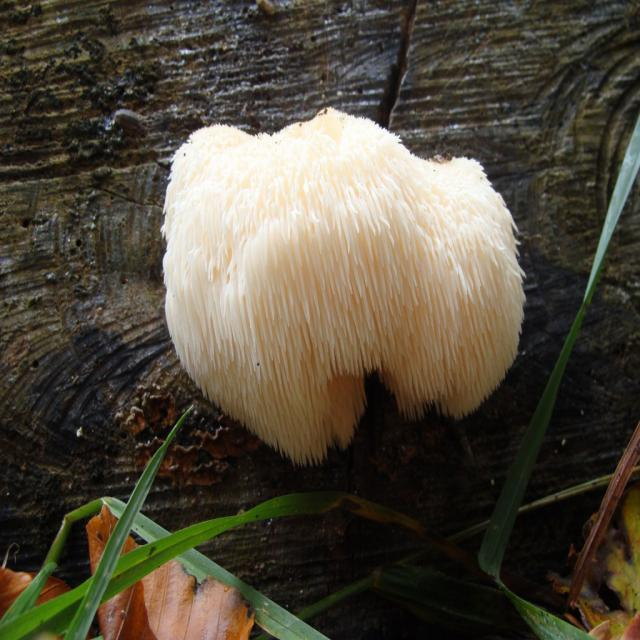Hericium erinaceus: (159, 101, 528, 459)
